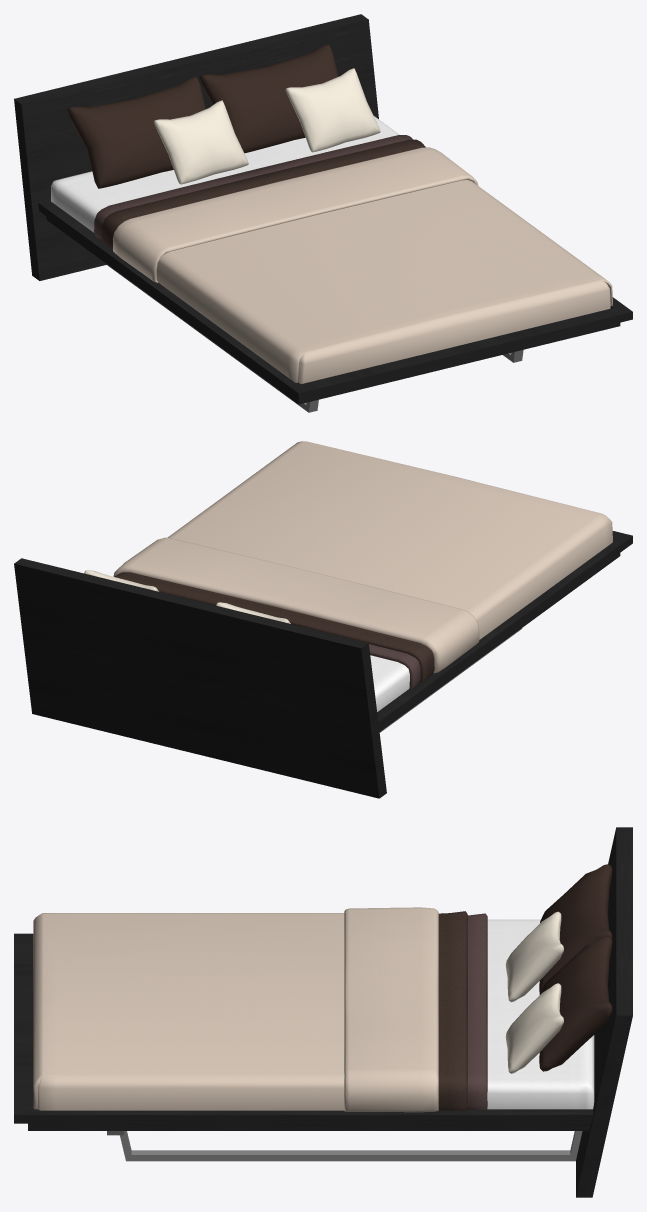
File: bed1.gltf
3 views of the same model, one above another, from view 1: azimuth 30°, elevation 25°; view 2: azimuth 150°, elevation 25°; view 3: azimuth 270°, elevation 25° (orthographic). The views are drawn at different scales.
Parts seen in each view (by area): view 1: 17_primitive, 8_primitive, 14_primitive, 10_primitive, 9_primitive, 13_primitive, 5_primitive, 11_primitive, 12_primitive, 16_primitive, 6_primitive, 4_primitive (+3 smaller); view 2: 8_primitive, 17_primitive, 14_primitive, 16_primitive, 4_primitive, 7_primitive, 5_primitive, 13_primitive, 15_primitive; view 3: 17_primitive, 14_primitive, 13_primitive, 4_primitive, 5_primitive, 16_primitive, 8_primitive, 1_primitive, 9_primitive, 15_primitive, 10_primitive, 7_primitive (+2 smaller).
Boxes of the visible parts, x1,y1,x2,y2 form: 17_primitive: [156, 180, 612, 383]; 8_primitive: [14, 19, 378, 280]; 14_primitive: [113, 147, 478, 282]; 10_primitive: [67, 76, 205, 188]; 9_primitive: [200, 44, 338, 153]; 13_primitive: [51, 116, 399, 232]; 5_primitive: [38, 200, 632, 393]; 11_primitive: [285, 68, 380, 152]; 12_primitive: [153, 100, 248, 184]; 16_primitive: [101, 139, 425, 248]; 6_primitive: [298, 312, 632, 404]; 4_primitive: [38, 203, 612, 403]; 8_primitive: [14, 564, 386, 798]; 17_primitive: [167, 441, 612, 639]; 14_primitive: [113, 537, 479, 673]; 16_primitive: [114, 572, 434, 682]; 4_primitive: [378, 536, 632, 731]; 7_primitive: [14, 558, 368, 648]; 5_primitive: [377, 531, 632, 721]; 13_primitive: [370, 655, 409, 711]; 15_primitive: [369, 644, 420, 688]; 17_primitive: [33, 913, 344, 1110]; 14_primitive: [344, 907, 438, 1112]; 13_primitive: [487, 919, 594, 1109]; 4_primitive: [14, 1115, 593, 1130]; 5_primitive: [14, 933, 593, 1114]; 16_primitive: [438, 911, 467, 1111]; 8_primitive: [576, 828, 632, 1197]; 1_primitive: [120, 1131, 582, 1161]; 9_primitive: [539, 936, 612, 1071]; 15_primitive: [467, 913, 487, 1110]; 10_primitive: [539, 864, 612, 994]; 7_primitive: [616, 827, 632, 1015].
Bounding box in the file's own units: 1.6 × 0.72 × 2.22.
18 materials, 15 textured.
